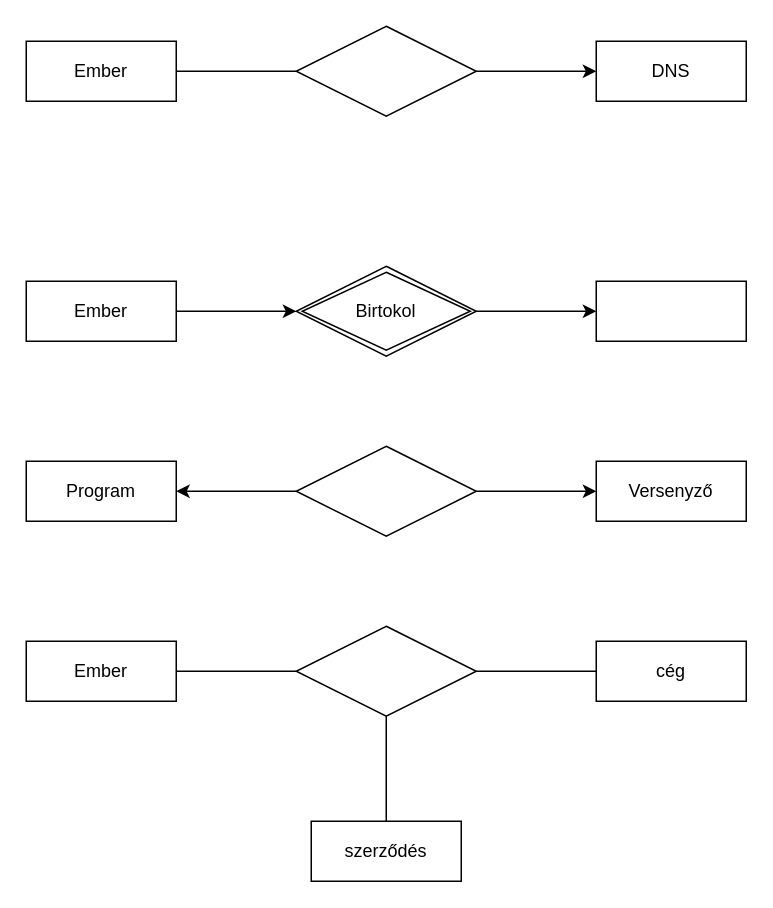
Some shapes in this 773 by 908 pixel diagram are drawn without their labels. Here are the shapes that lost their labels. From the top down, the box of each, then its label:
(295, 25, 476, 116): Relationship
(595, 280, 746, 341): Ház
(295, 445, 476, 536): Fut
(295, 625, 476, 716): aláír
